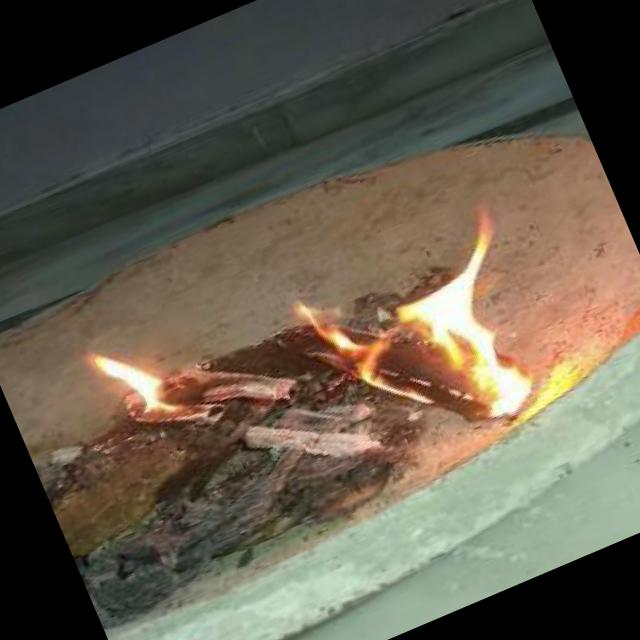fire: (283, 194, 579, 482), (62, 306, 232, 468)
